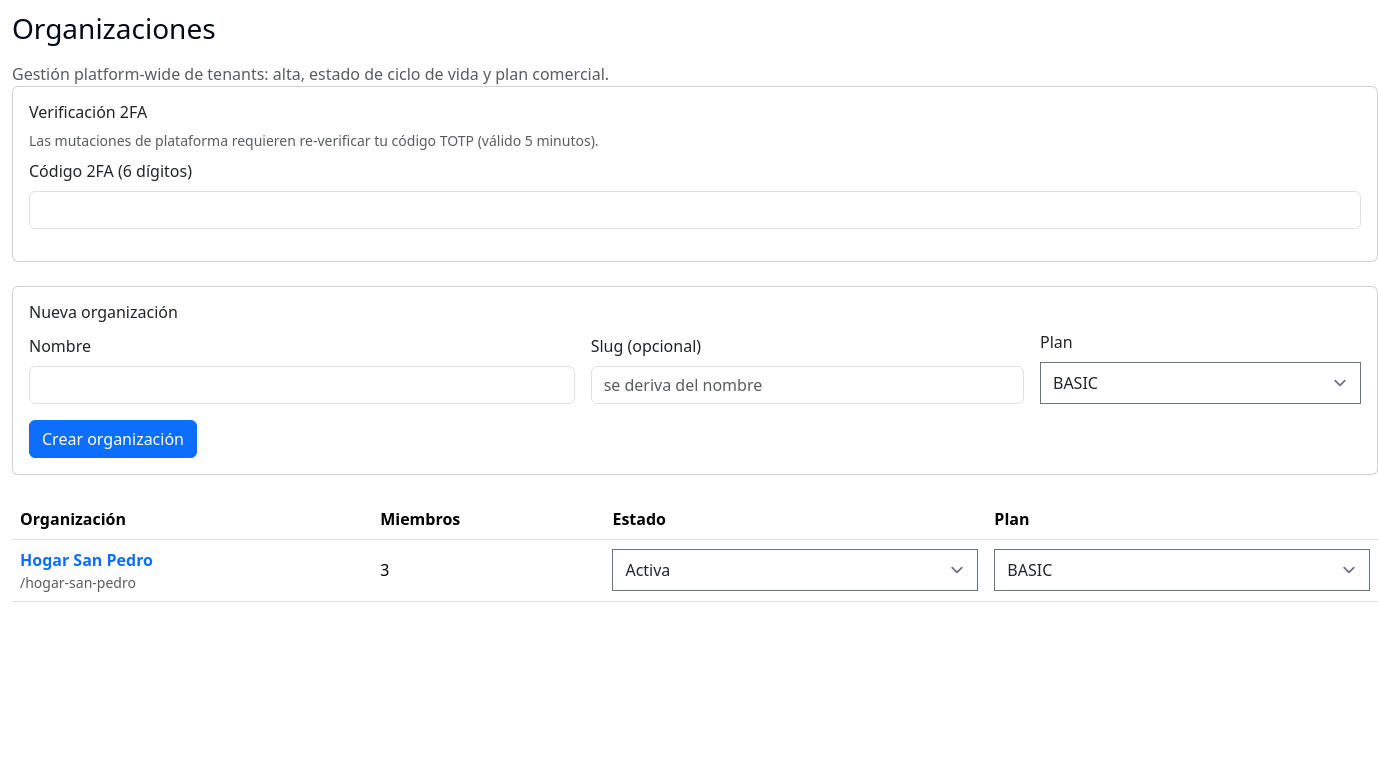
Scenario: PlatformOrganizationsPage › crea una organización tras verificar 2FA cuando no hay step-up previo
Expected: the link "Hogar San Pedro" is shown, 20,549 -> 153,571
Type "123456" into the field labelled "Código 2FA (6 dígitos)" at (695, 210), box 29,191 -> 1361,229
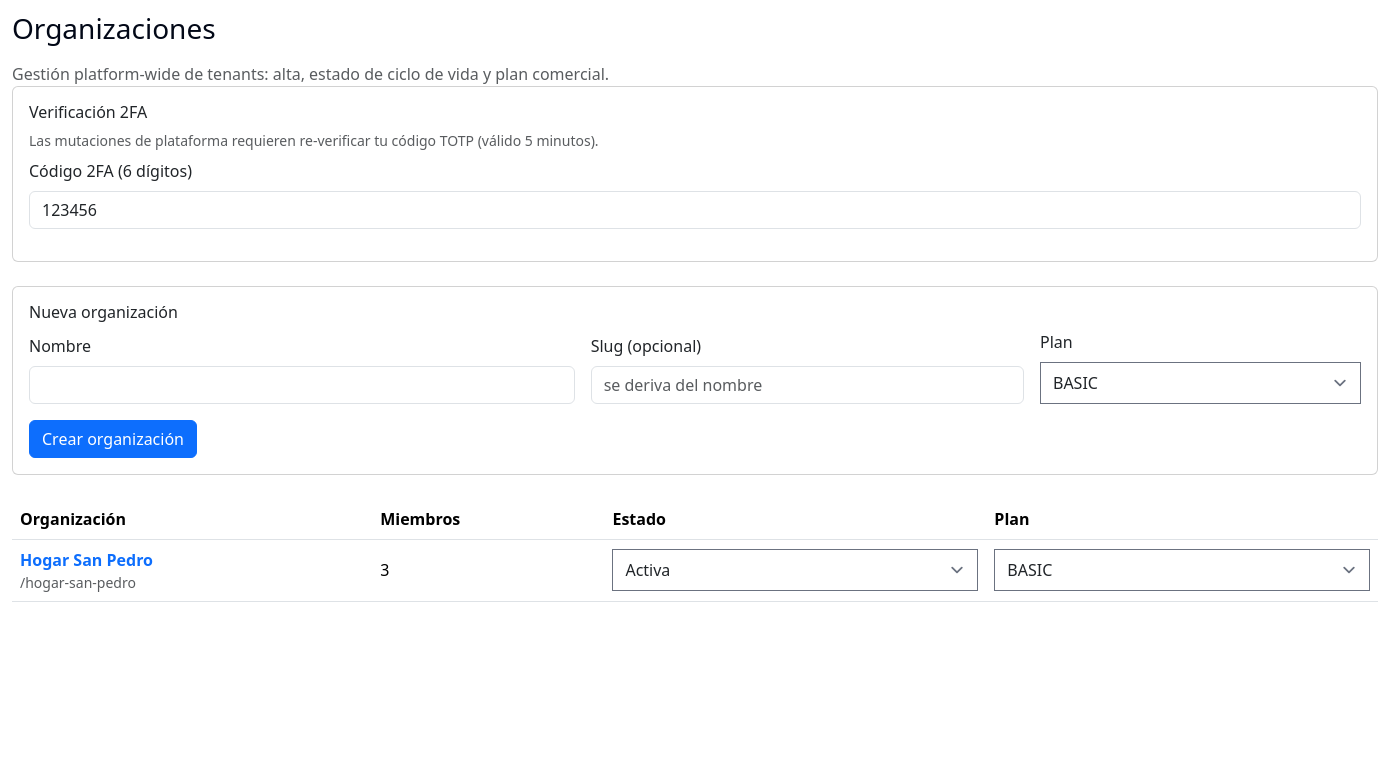
Type "Nueva Org" into the field labelled "Nombre" at (302, 385), box 29,366 -> 575,404
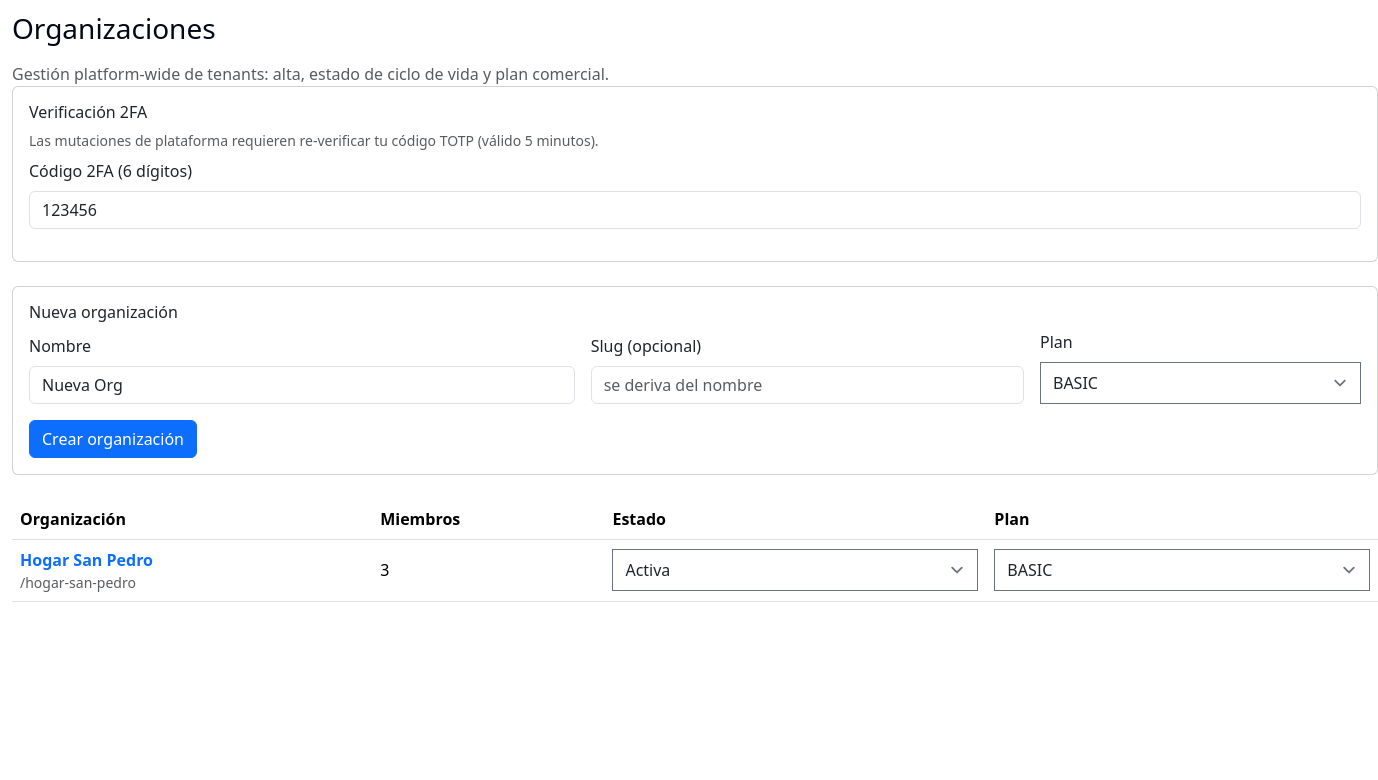
Submit the form "Crear organización", box 13,287 -> 1377,474
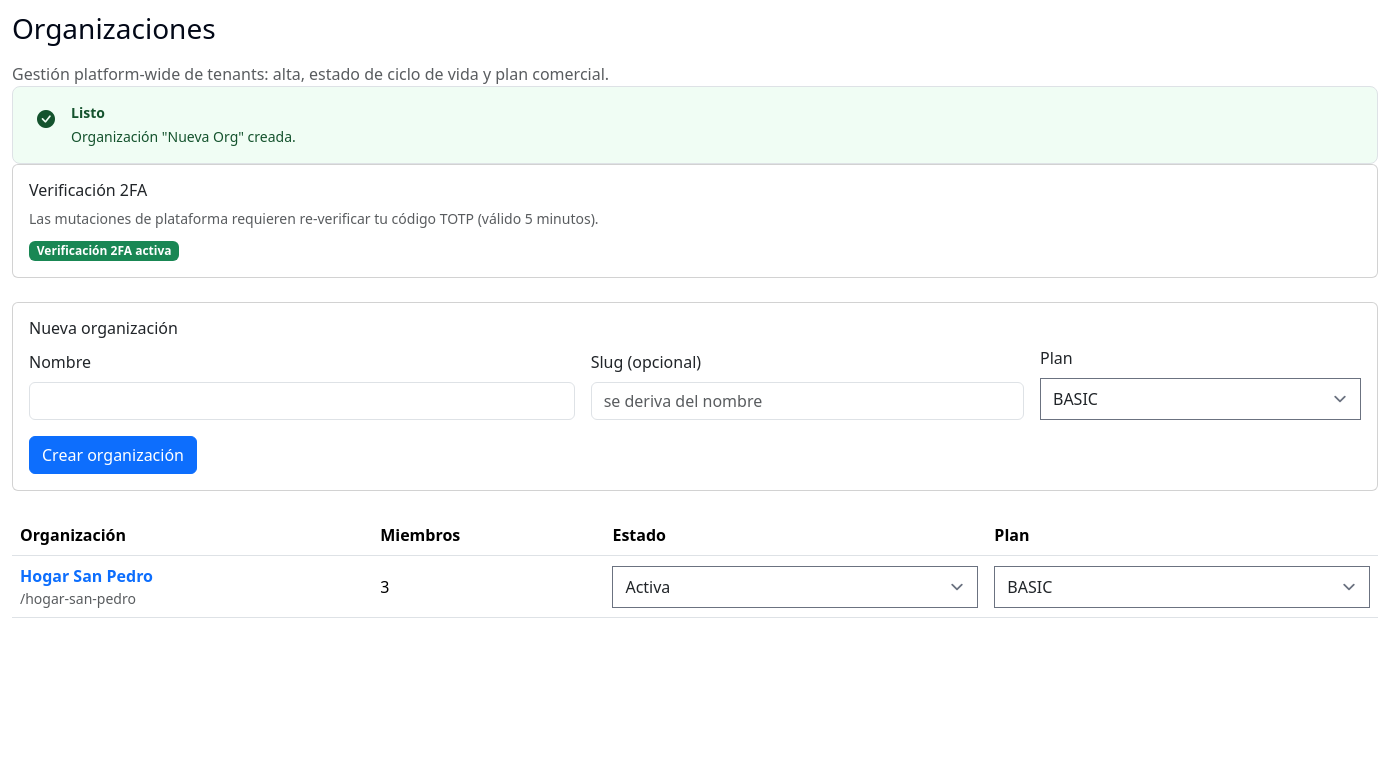
Expected: the text "Organización \"Nueva Org\" creada." is shown, 71,127 -> 296,146
